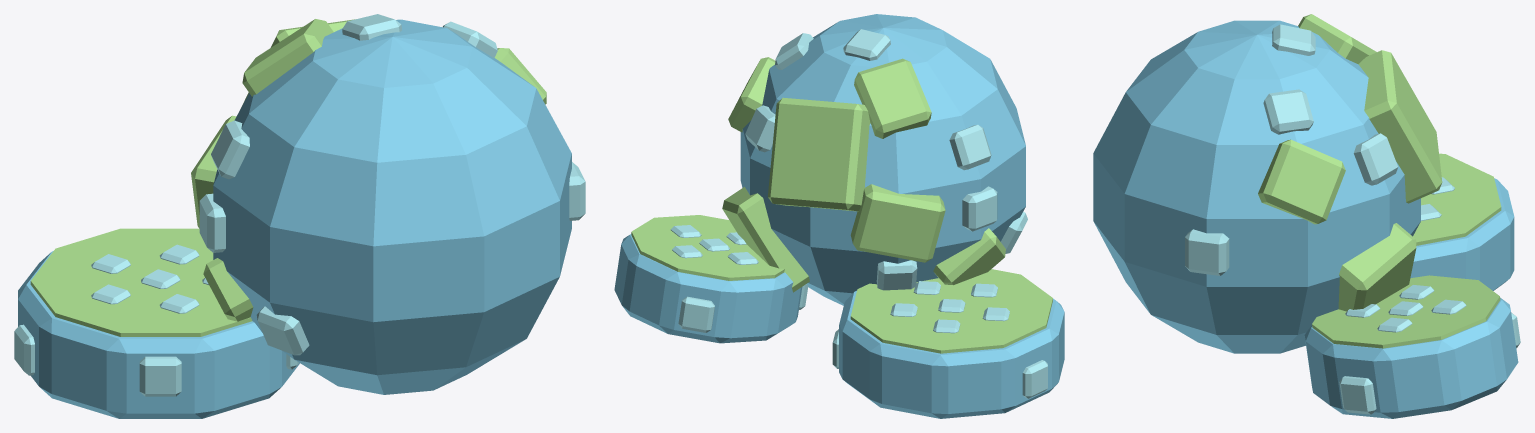
Rendered from NarmekPlanetSlice.fbx.
3 views of the same model, side by side, from view 1: azimuth 30°, elevation 25°; view 2: azimuth 150°, elevation 25°; view 3: azimuth 270°, elevation 25° (orthographic). The views are drawn at different scales.
Visible parts, largest first — view 1: NarmekPlanetSlice.Planet, NarmekPlanetSlice.Rims, NarmekPlanetSlice.Faces, NarmekPlanetSlice.Studs, NarmekPlanetSlice.Continents; view 2: NarmekPlanetSlice.Planet, NarmekPlanetSlice.Continents, NarmekPlanetSlice.Rims, NarmekPlanetSlice.Faces, NarmekPlanetSlice.Studs; view 3: NarmekPlanetSlice.Planet, NarmekPlanetSlice.Rims, NarmekPlanetSlice.Continents, NarmekPlanetSlice.Faces, NarmekPlanetSlice.Studs.
Boxes of the visible parts, x1,y1,x2,y2 form: NarmekPlanetSlice.Planet: [213, 19, 571, 394]; NarmekPlanetSlice.Rims: [18, 251, 299, 418]; NarmekPlanetSlice.Faces: [30, 228, 252, 336]; NarmekPlanetSlice.Studs: [14, 14, 585, 396]; NarmekPlanetSlice.Continents: [191, 19, 546, 321]; NarmekPlanetSlice.Planet: [740, 14, 1025, 305]; NarmekPlanetSlice.Continents: [722, 57, 1005, 292]; NarmekPlanetSlice.Rims: [614, 234, 1064, 418]; NarmekPlanetSlice.Faces: [631, 215, 1052, 353]; NarmekPlanetSlice.Studs: [670, 29, 1047, 398]; NarmekPlanetSlice.Planet: [1093, 20, 1420, 353]; NarmekPlanetSlice.Rims: [1304, 178, 1518, 418]; NarmekPlanetSlice.Continents: [1258, 14, 1442, 311]; NarmekPlanetSlice.Faces: [1312, 153, 1501, 348]; NarmekPlanetSlice.Studs: [1185, 24, 1520, 414].
Bounding box in the file's own units: 2.72 × 1.73 × 2.16.
